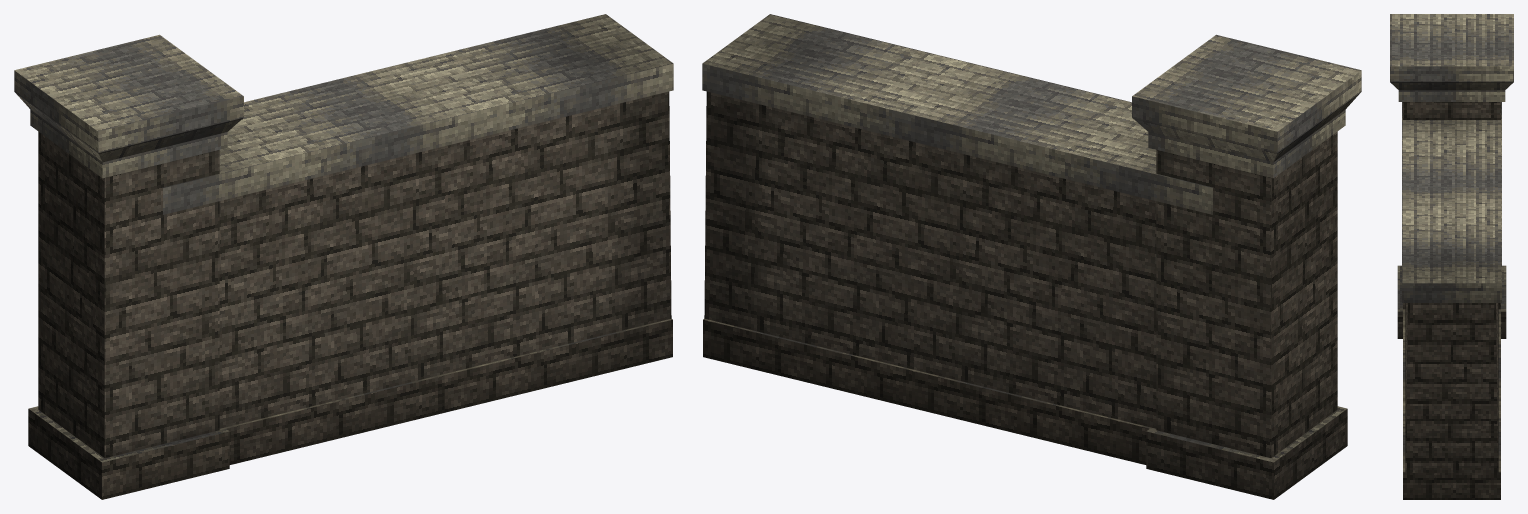
File: hall_wall.glb
3 views of the same model, side by side, from view 1: azimuth 30°, elevation 25°; view 2: azimuth 150°, elevation 25°; view 3: azimuth 270°, elevation 25° (orthographic). The views are drawn at different scales.
Parts seen in each view (by area): view 1: hall_wall; view 2: hall_wall; view 3: hall_wall.
Part boxes in pixels (x1,y1,x2,y2): hall_wall: (14, 14, 673, 499); hall_wall: (702, 14, 1361, 499); hall_wall: (1390, 14, 1513, 499).
Bounding box in the file's own units: 4.57 × 2.8 × 1.14.
2 materials, 2 textured.
